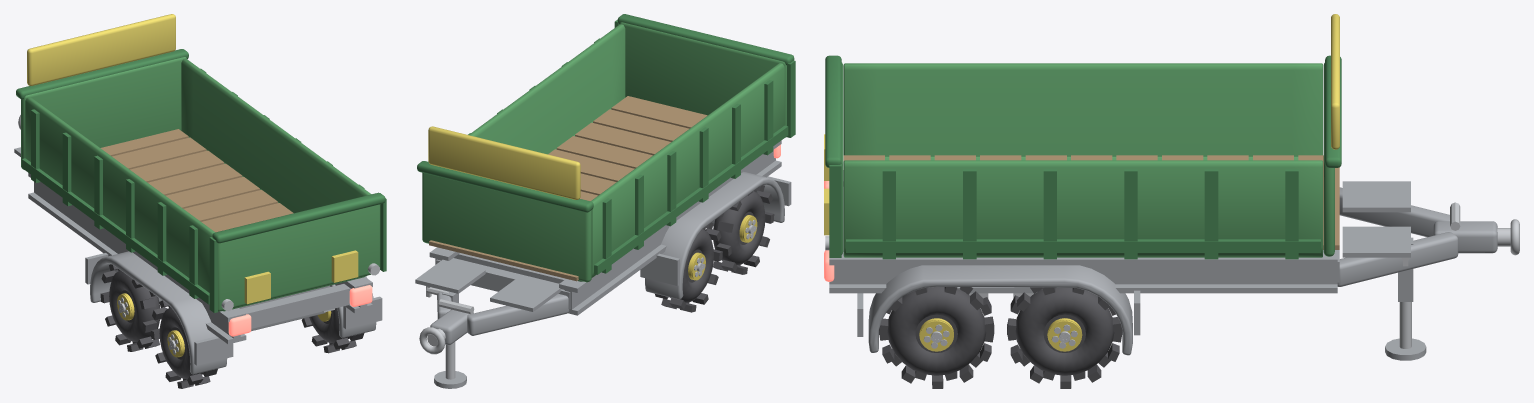
The model's file is th18_anhaenger.glb.
The picture shows the model from 3 angles, left to right: view 1: azimuth 30°, elevation 25°; view 2: azimuth 150°, elevation 25°; view 3: azimuth 270°, elevation 25°; orthographic projection. The views are drawn at different scales.
Parts seen in each view (by area): view 1: Wanne, Cube.147, Cube.144, Cube.146, Kotfluegel, Cube.094, Cube.136, Cube.148, Torus, Cube.145, Cube.089, Cube.127 (+25 smaller); view 2: Wanne, Cube.144, Cube.147, Cube.146, Kotfluegel, Cube.136, Cube.155, Cube.145, Torus.001, Cube.148, Cube.089, Cube.120 (+25 smaller); view 3: Wanne, Kotfluegel.001, Cube.143, Cube.092, Torus.003, Torus.002, Cube.091, Cube.093, Cube.157, Cube.156, Cube.158, Cube.148 (+16 smaller).
Boxes of the visible parts, left/top/right/bottom form: Wanne: left=25, top=59, right=371, bottom=311; Cube.147: left=218, top=204, right=380, bottom=311; Cube.144: left=21, top=57, right=186, bottom=169; Cube.146: left=27, top=14, right=175, bottom=85; Kotfluegel: left=90, top=251, right=227, bottom=374; Cube.094: left=240, top=284, right=350, bottom=328; Cube.136: left=21, top=158, right=209, bottom=304; Cube.148: left=212, top=192, right=385, bottom=243; Torus: left=109, top=270, right=159, bottom=342; Cube.145: left=16, top=49, right=188, bottom=99; Cube.089: left=34, top=182, right=240, bottom=338; Cube.127: left=130, top=150, right=224, bottom=182; Wanne: left=469, top=24, right=784, bottom=281; Cube.144: left=422, top=172, right=591, bottom=282; Cube.147: left=620, top=22, right=786, bottom=137; Cube.146: left=428, top=126, right=580, bottom=199; Kotfluegel: left=645, top=171, right=784, bottom=299; Cube.136: left=594, top=125, right=788, bottom=274; Cube.155: left=467, top=294, right=569, bottom=335; Cube.145: left=417, top=161, right=593, bottom=212; Torus.001: left=713, top=191, right=765, bottom=264; Cube.148: left=617, top=14, right=794, bottom=65; Cube.089: left=564, top=150, right=775, bottom=310; Cube.120: left=593, top=109, right=689, bottom=141; Wanne: left=843, top=63, right=1322, bottom=257; Kotfluegel.001: left=868, top=265, right=1132, bottom=355; Cube.143: left=846, top=239, right=1320, bottom=252; Cube.092: left=829, top=265, right=1337, bottom=284; Torus.003: left=887, top=287, right=985, bottom=375; Torus.002: left=1015, top=287, right=1113, bottom=375; Cube.091: left=829, top=248, right=1337, bottom=265; Cube.093: left=829, top=284, right=1337, bottom=293; Cube.157: left=1337, top=232, right=1458, bottom=286; Cube.156: left=1342, top=181, right=1410, bottom=212; Cube.158: left=1342, top=226, right=1410, bottom=257; Cube.148: left=825, top=55, right=841, bottom=167.
Size of the model in its own units: 2.64 by 2.97 by 6.73.
